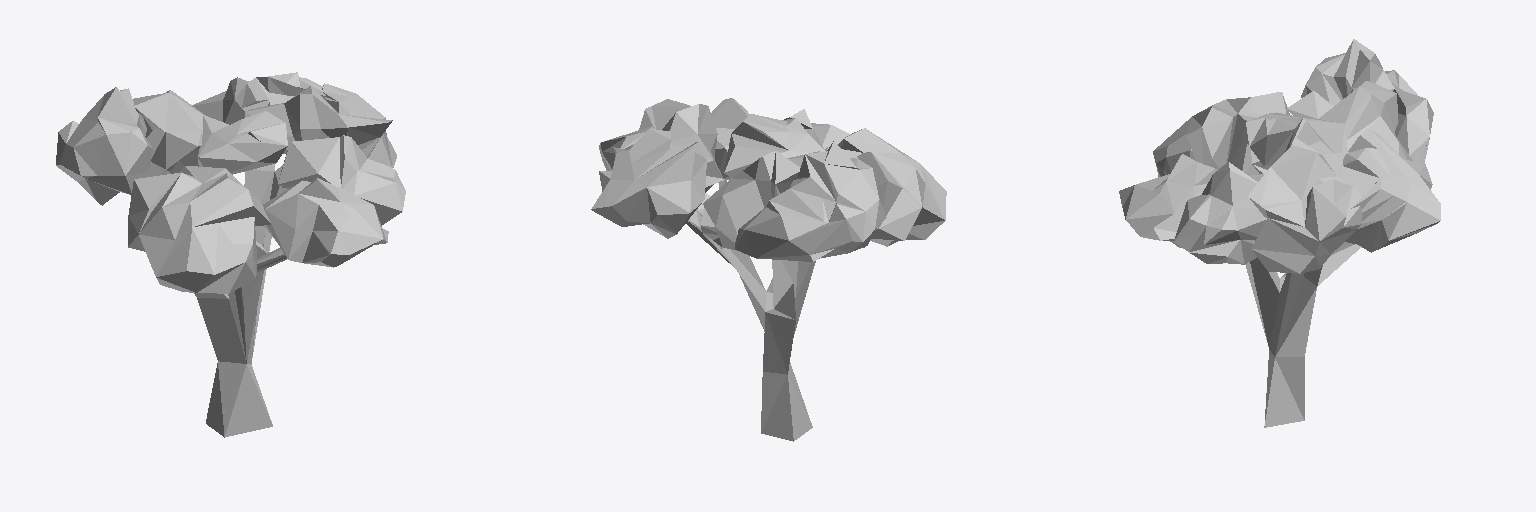
The model's file is tree.obj.
The picture shows the model from 3 angles: view 1: azimuth 30°, elevation 25°; view 2: azimuth 150°, elevation 25°; view 3: azimuth 270°, elevation 25°; orthographic projection.
Size of the model in its own units: 1.65 by 1.74 by 1.52.